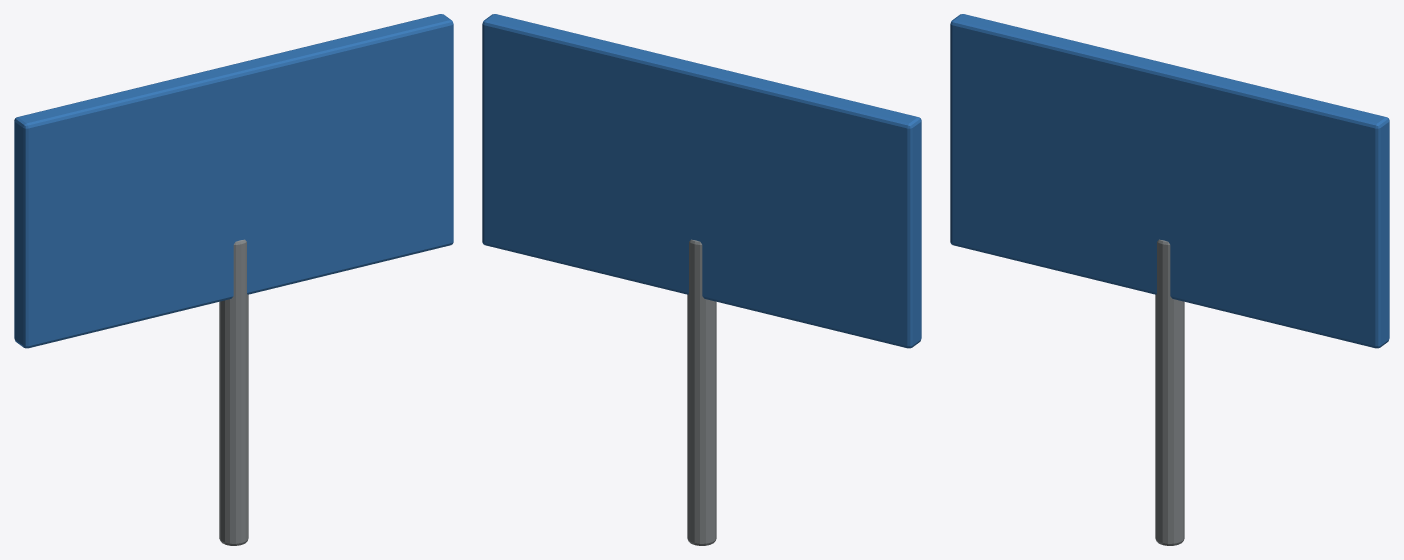
Rendered from Prop_Street_012.glb.
3 renders of one model, left to right at view 1: azimuth 30°, elevation 25°; view 2: azimuth 150°, elevation 25°; view 3: azimuth 330°, elevation 25°, orthographic.
Visible parts, largest first — view 1: Prop_Street_012; view 2: Prop_Street_012; view 3: Prop_Street_012.
Boxes of the visible parts, <box> form: Prop_Street_012: <box>14,14,453,545</box>; Prop_Street_012: <box>482,14,921,545</box>; Prop_Street_012: <box>950,14,1389,545</box>.
Bounding box in the file's own units: 5 × 5.25 × 0.3.
